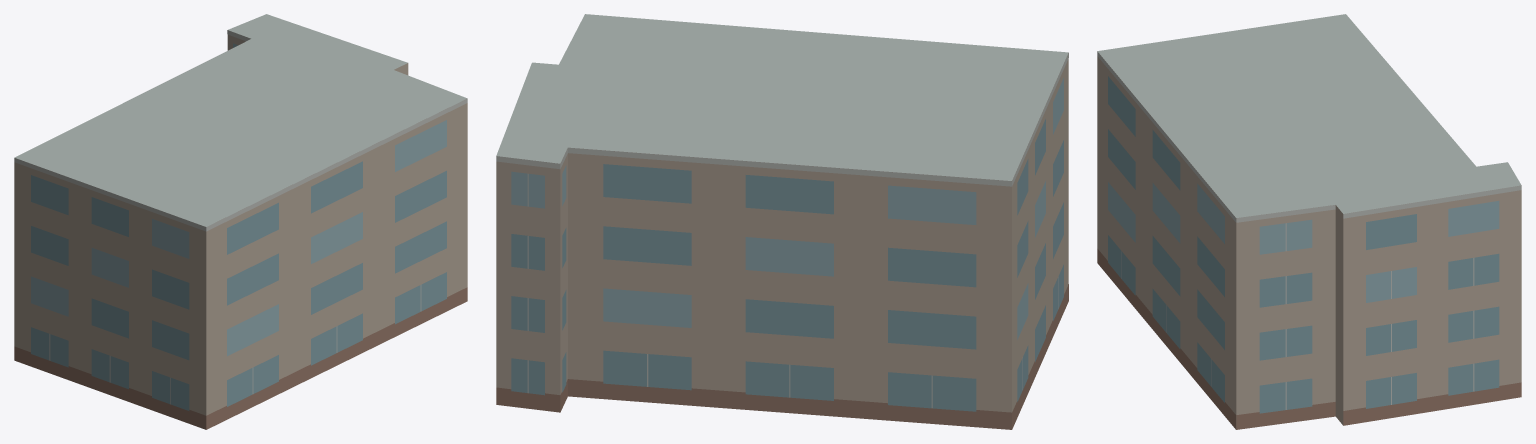
File: survey-upis-32865924.glb
The picture shows the model from 3 angles, left to right: view 1: azimuth 30°, elevation 25°; view 2: azimuth 150°, elevation 25°; view 3: azimuth 270°, elevation 25°; orthographic projection. The views are drawn at different scales.
Parts seen in each view (by area): view 1: survey-upis-32865924.tmp; view 2: survey-upis-32865924.tmp; view 3: survey-upis-32865924.tmp.
Part boxes in pixels (x1,y1,x2,y2): survey-upis-32865924.tmp: (14,14,467,429); survey-upis-32865924.tmp: (496,14,1068,429); survey-upis-32865924.tmp: (1097,14,1521,429).
Bounding box in the file's own units: 22.75 × 11 × 19.99.
